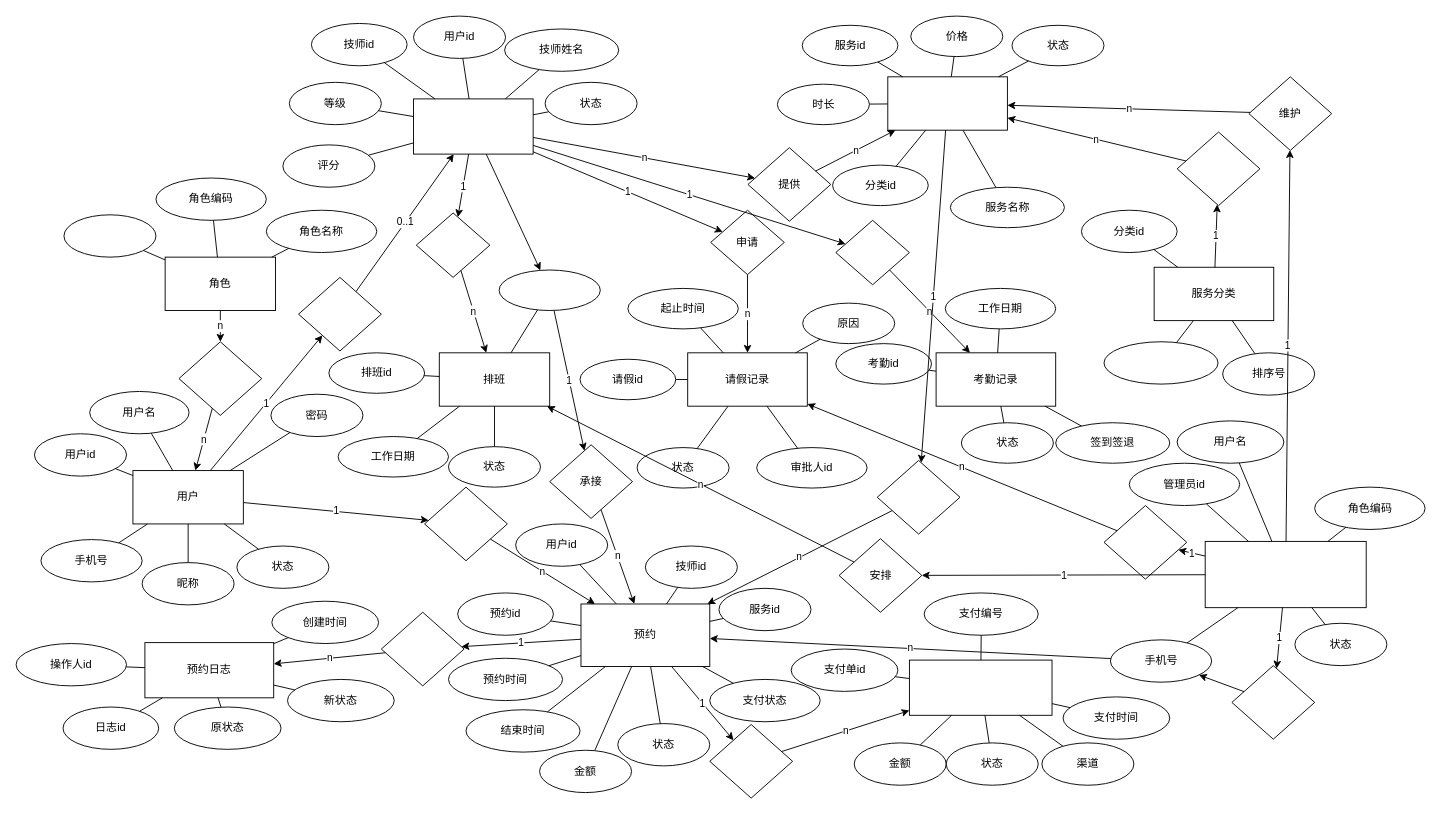
Image size: 1442x814. Some labels were removed from this diagram. The centre of each missing label's shape, as x and y in pixels:
"分类名称" goes at point (1160, 362).
"分配" goes at point (220, 378).
"创建" goes at point (465, 523).
"包含" goes at point (1218, 168).
"处理" goes at point (1273, 702).
"审批" goes at point (1145, 542).
"打卡" goes at point (872, 252).
"技师" goes at point (473, 126).
"拥有" goes at point (452, 244).
"时间段" goes at point (549, 289).
"服务项目" goes at point (947, 103).
"生成" goes at point (751, 761).
"管理员 sys_user + ADMIN角色" goes at point (1285, 574).
"绑定" goes at point (339, 313).
"角色id" goes at point (109, 235).
"记录" goes at point (422, 648).
"选择" goes at point (918, 497).
"预约支付单" goes at point (980, 687).
